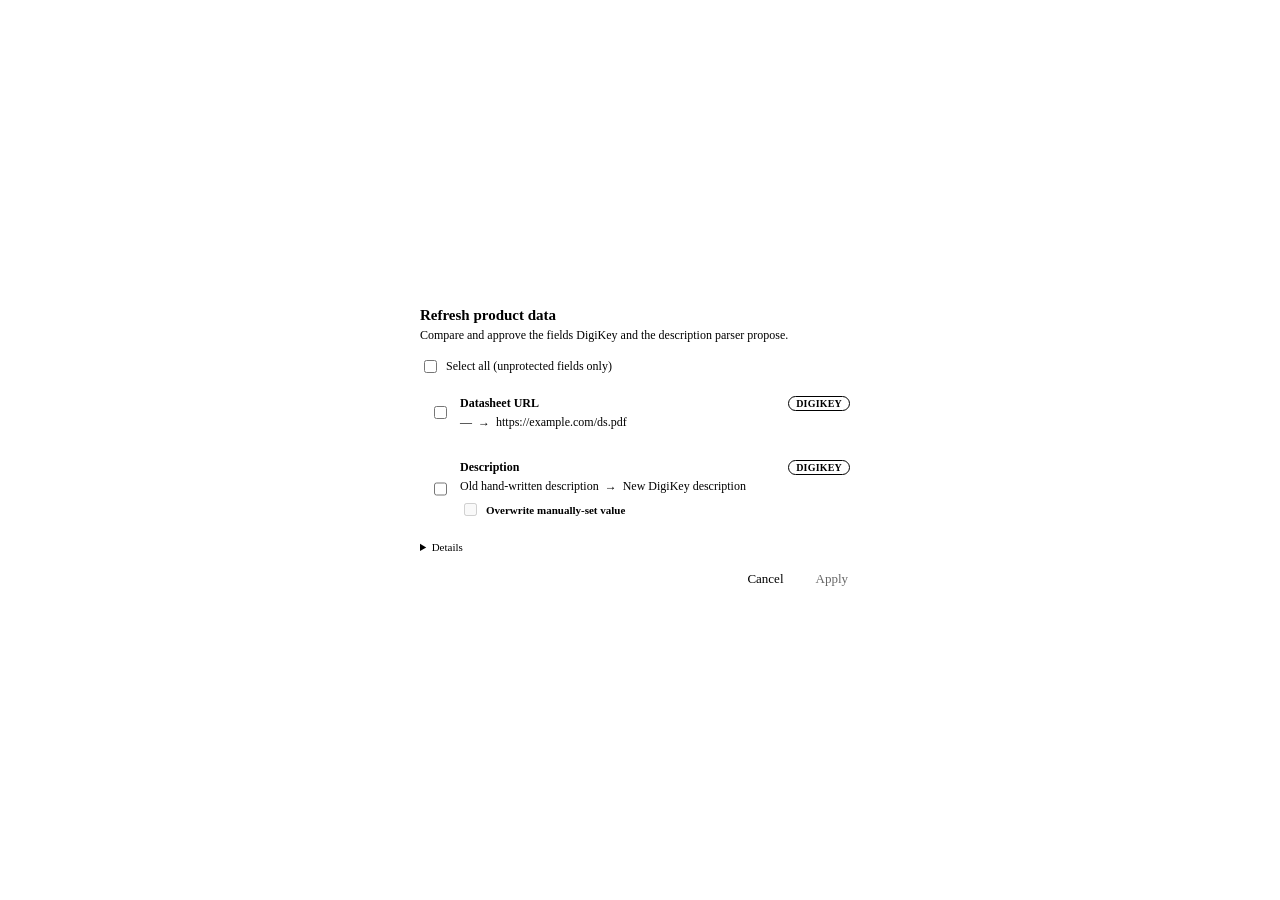
Test: EnrichmentDiffDialog › an enrichment_review_required apply error shows a plain message and keeps the dialog open with nothing applied
expect the text "Datasheet URL" is shown: met, box 460,396 -> 539,411
Click the checkbox named "include": click(440, 412) 434,398 -> 447,427
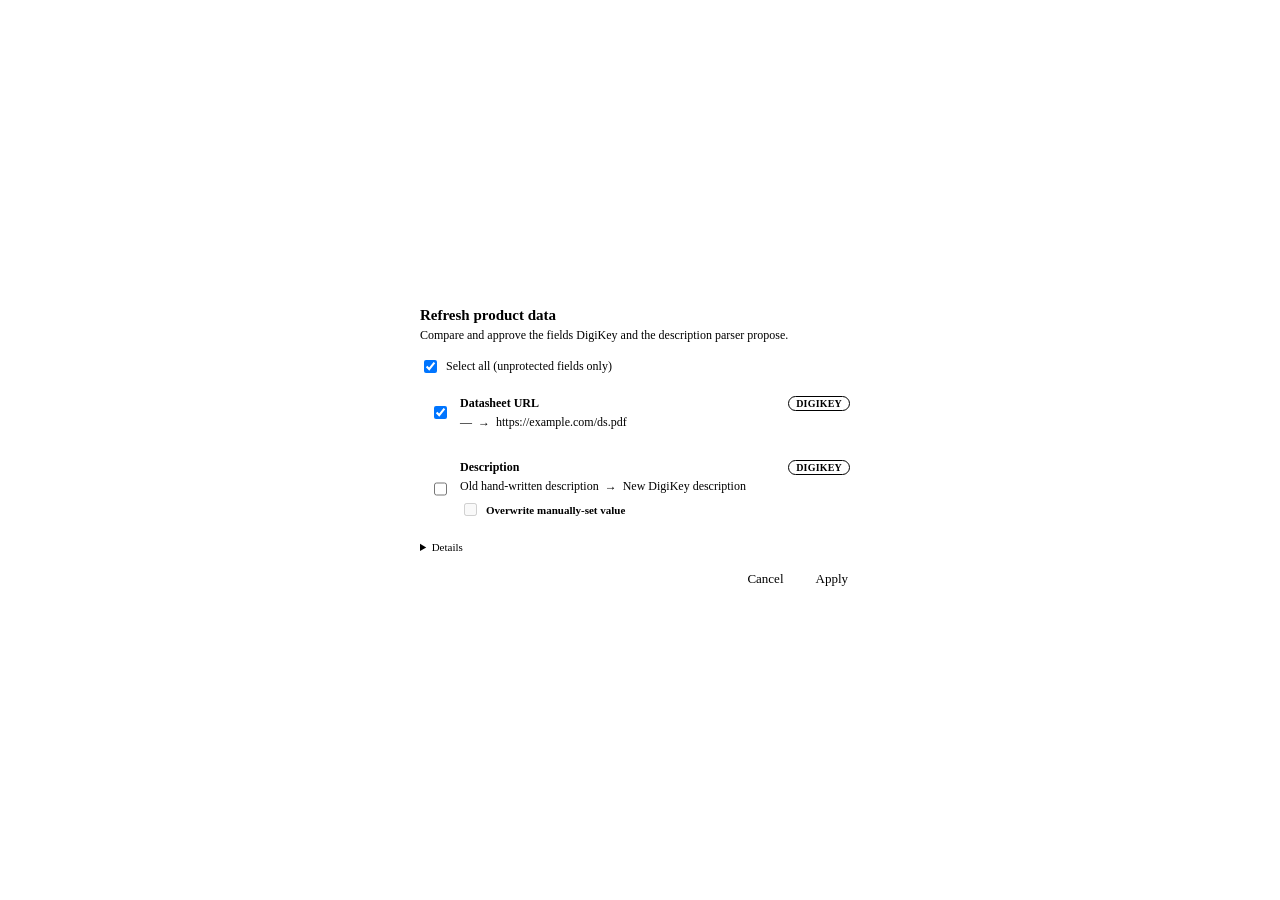
Click the button "Apply": click(832, 579) 804,565 -> 860,593
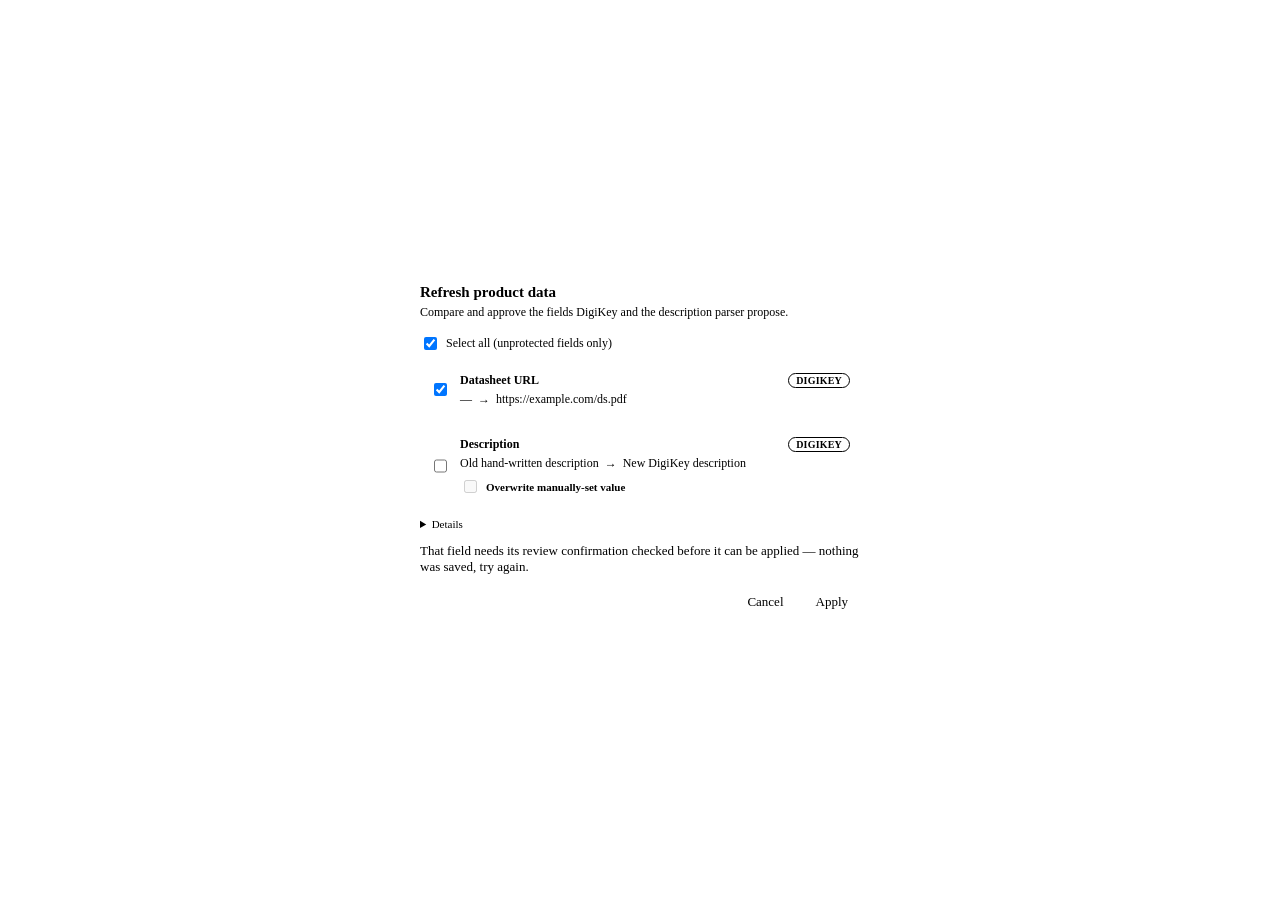
expect the dialog is shown: met, box 400,264 -> 880,636
expect the text "nothing was saved" is shown: met, box 420,543 -> 859,574
